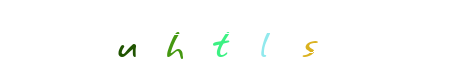H: (164, 0, 244, 80)
L: (192, 0, 272, 80)
S: (269, 0, 349, 80)
T: (185, 0, 265, 80)
U: (110, 0, 190, 80)
